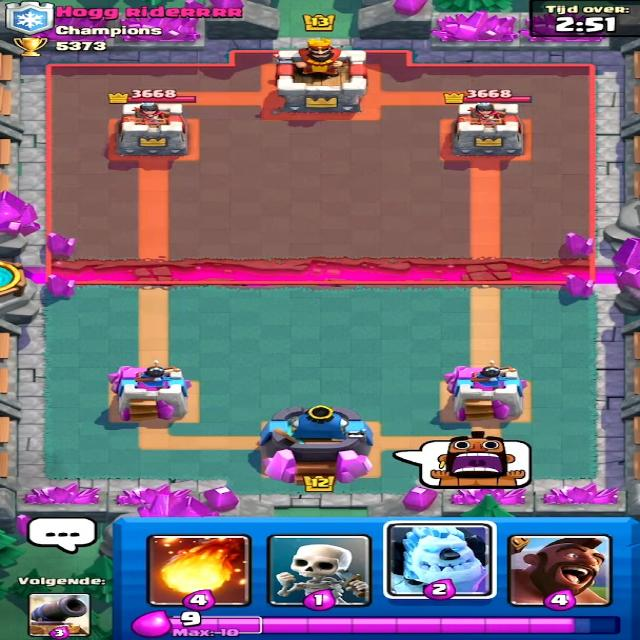Fireball_Card: (154, 534, 252, 606)
Hog_Rider_Card: (510, 532, 616, 607)
Ice_Golem_Card: (390, 525, 490, 597)
Skeleton_Card: (262, 534, 372, 607)
